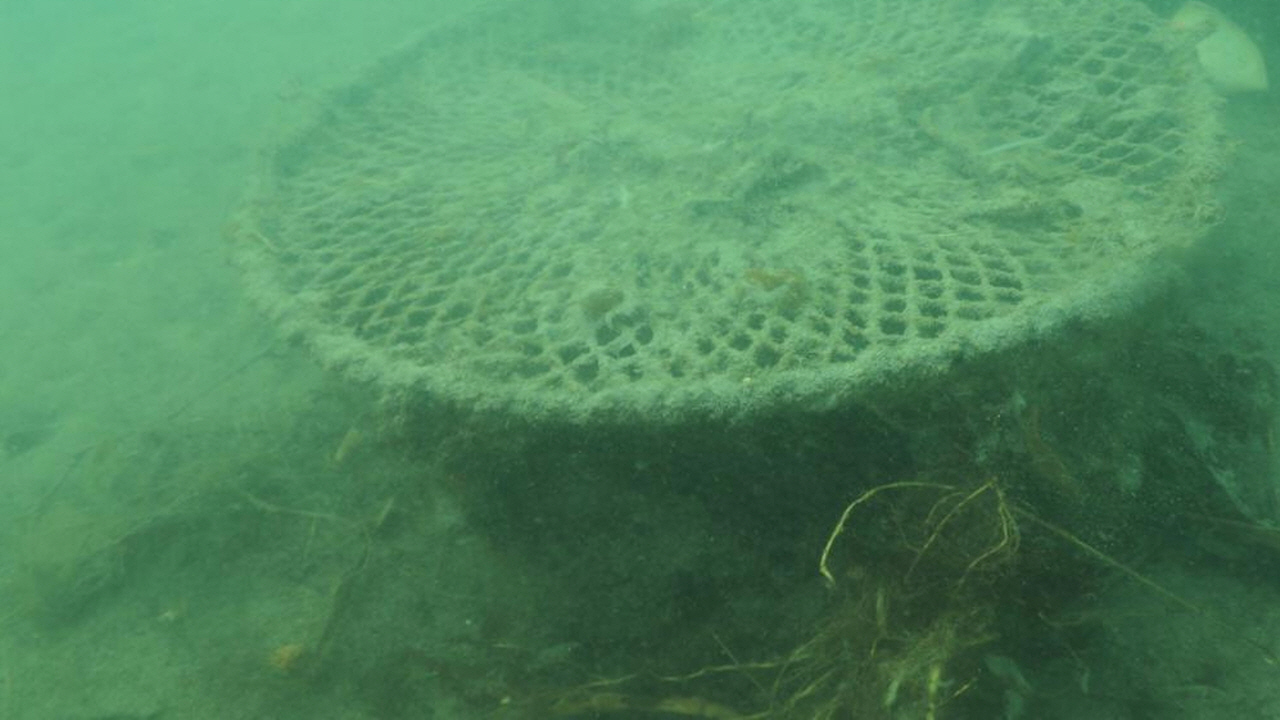circular fish trap: (235, 0, 1230, 421)
